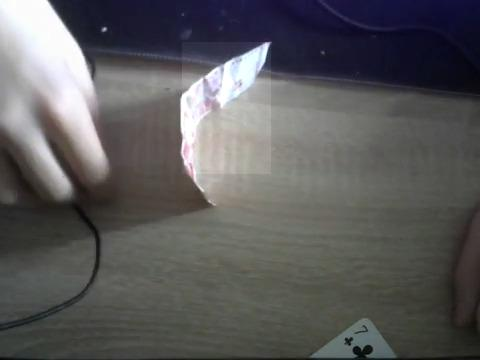5leva: (182, 42, 271, 174)
